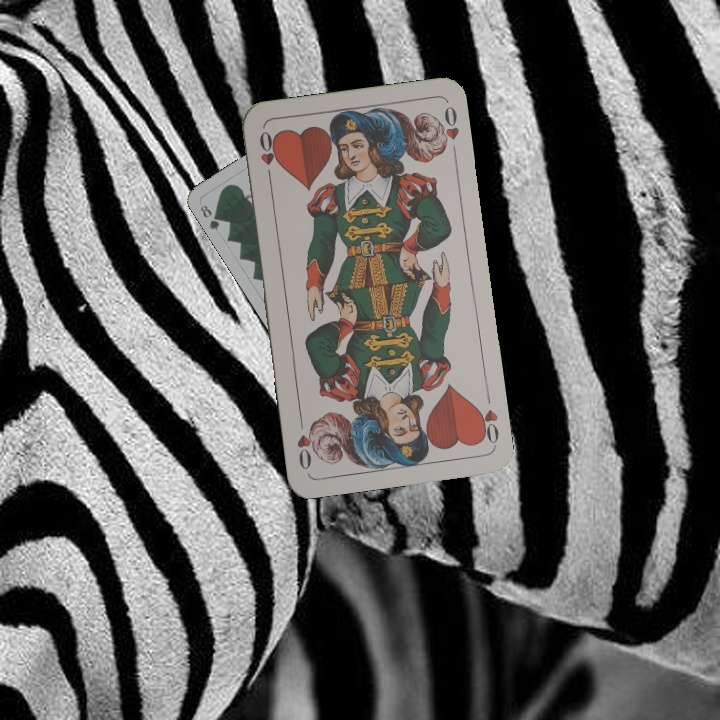G8: (196, 201, 225, 233)
HO: (472, 389, 502, 447), (255, 127, 279, 185)
